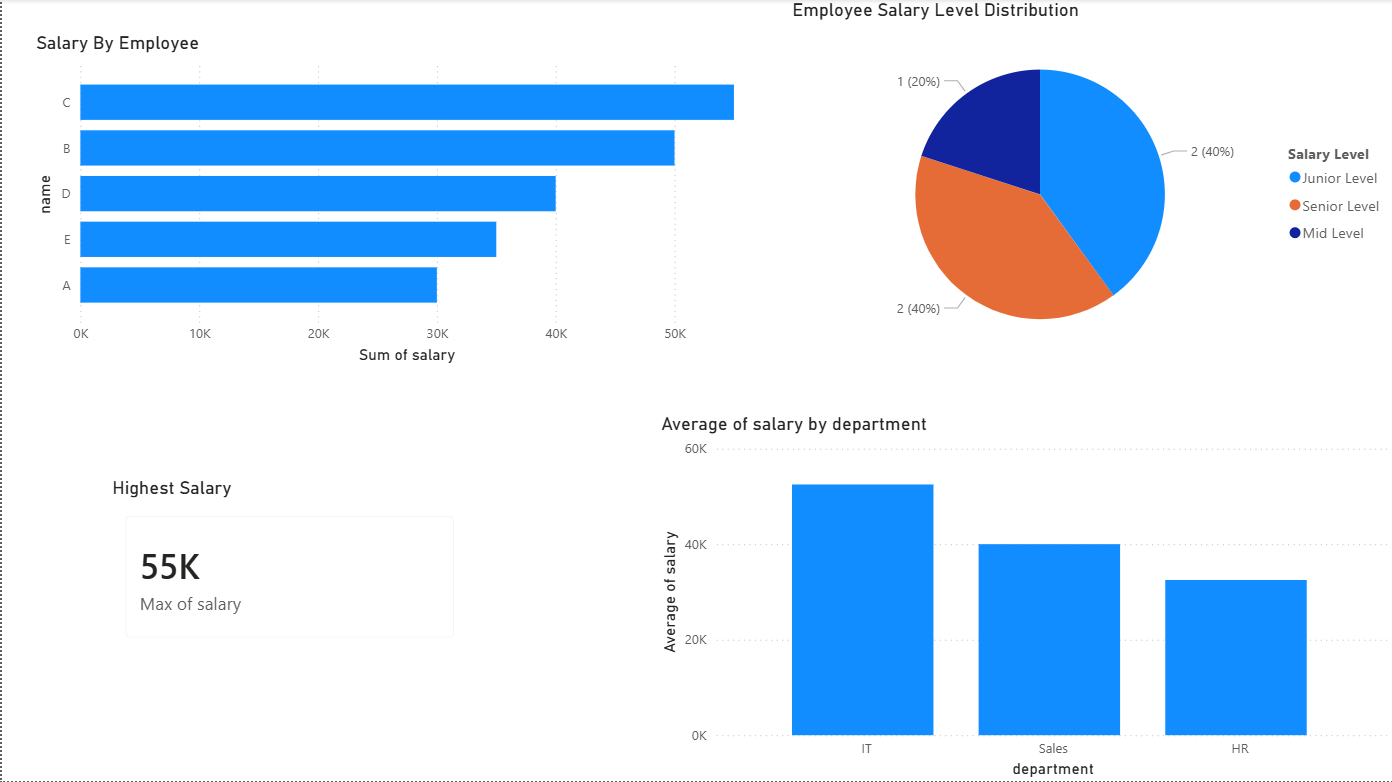

The dashboard page shown, as its layout file describes it:
{"tool":"powerbi","page":{"name":"Page 1","canvas":[1280,720],"ordinal":0},"visuals":[{"type":"clusteredColumnChart","fields":{"Category":["employees.department"],"Y":["Avg(salaries.salary)"]},"box":[601,380.1,679.2,340.3],"z":0},{"type":"barChart","title":"Salary By Employee","fields":{"Category":["employees.name "],"Y":["Sum(salaries.salary)"]},"box":[26.1,30.2,661.4,310.1],"z":1},{"type":"cardVisual","title":"Highest Salary","fields":{"Data":["Max(salaries.salary)"]},"box":[96.1,439.1,336.2,166],"z":2},{"type":"pieChart","title":"Employee Salary Level Distribution","fields":{"Category":["salaries.Salary Level"],"Y":["CountNonNull(salaries.salary)"]},"box":[721.8,0,558.5,340.3],"z":3}]}

Visuals, with their boxes in screenshot pixels (x1, y1, x2, y2), scaled from the page's 1280x720 canvas onto the 1392x782 screenshot:
clusteredColumnChart - employees.department x Avg(salaries.salary): {"left": 654, "top": 413, "right": 1391, "bottom": 781}
"Salary By Employee" barChart: {"left": 28, "top": 33, "right": 748, "bottom": 370}
"Highest Salary" cardVisual: {"left": 105, "top": 477, "right": 470, "bottom": 657}
"Employee Salary Level Distribution" pieChart: {"left": 785, "top": 0, "right": 1391, "bottom": 370}
